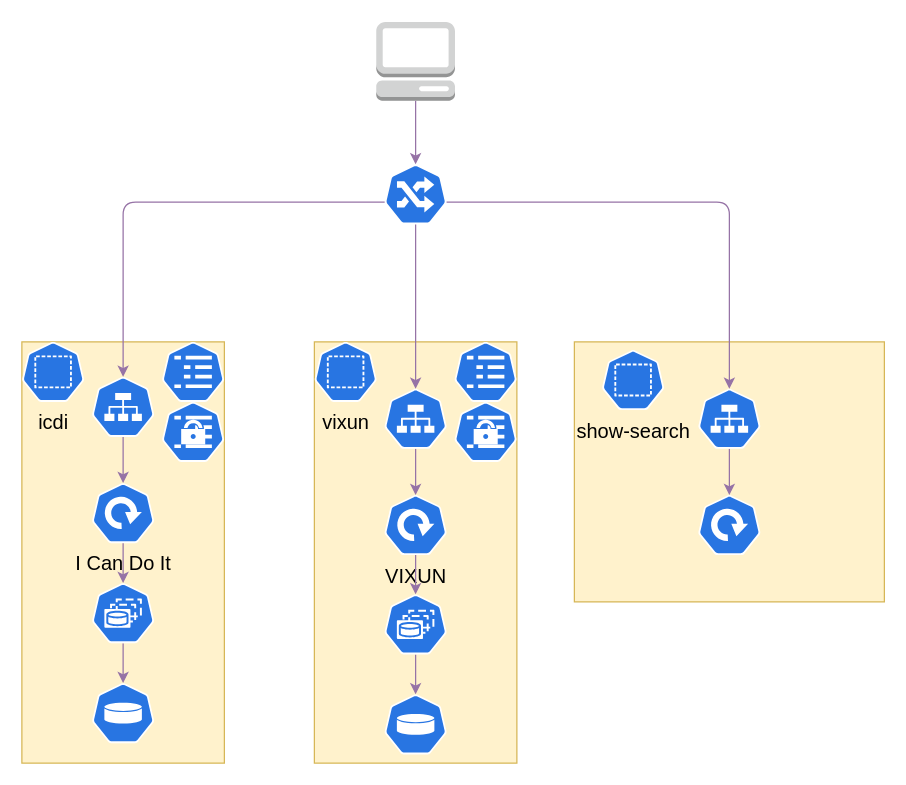
Some shapes in this 906 by 785 pixel diagram are drawn without their labels. Each missing label, with the centre of its shape:
Firestore Emu.: the point at 122,612
Mongo DB: the point at 415,623
Show Search: the point at 729,524
